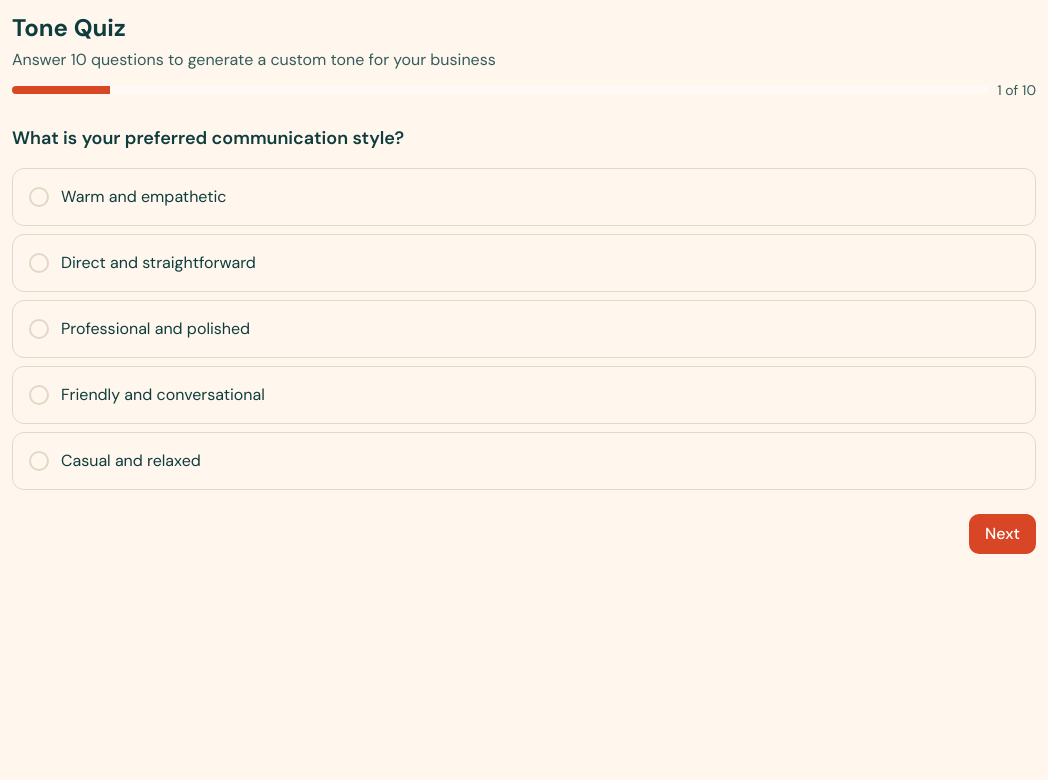
components/voice-profile/ToneQuiz › Question navigation › allows going back to previous question
The image size is (1048, 780).
Click the radio button "Warm and empathetic" at (144, 196), box [12, 168, 1036, 226]
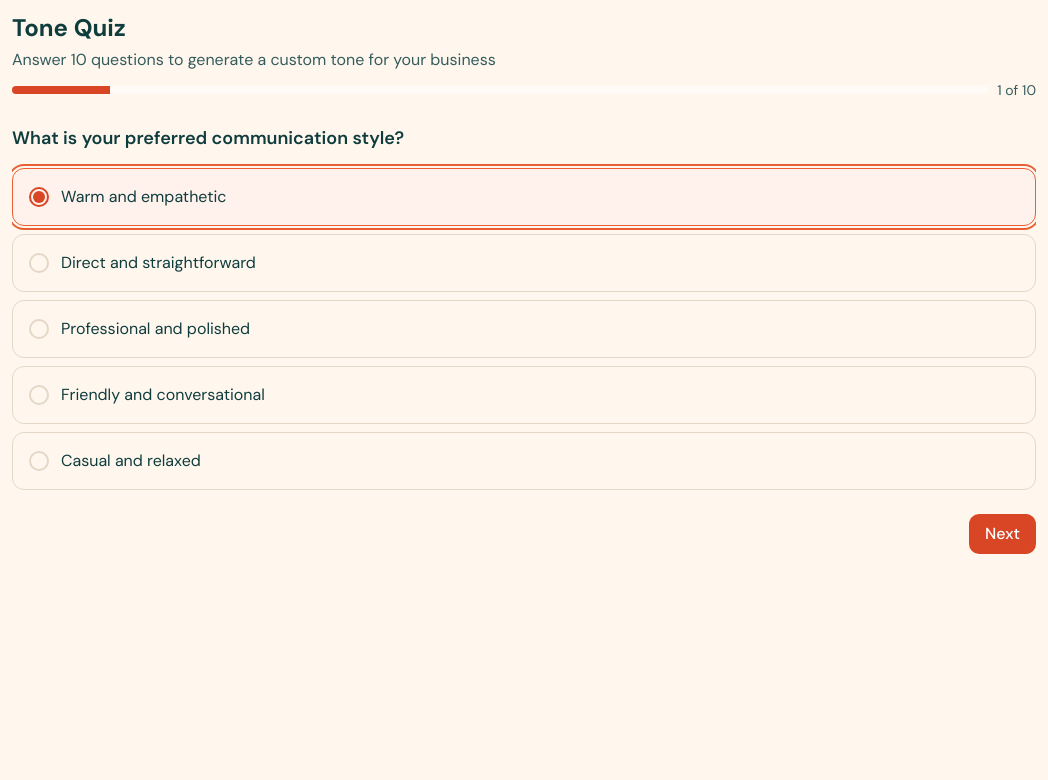
Click the button "Next" at (1003, 534), box [969, 514, 1036, 554]
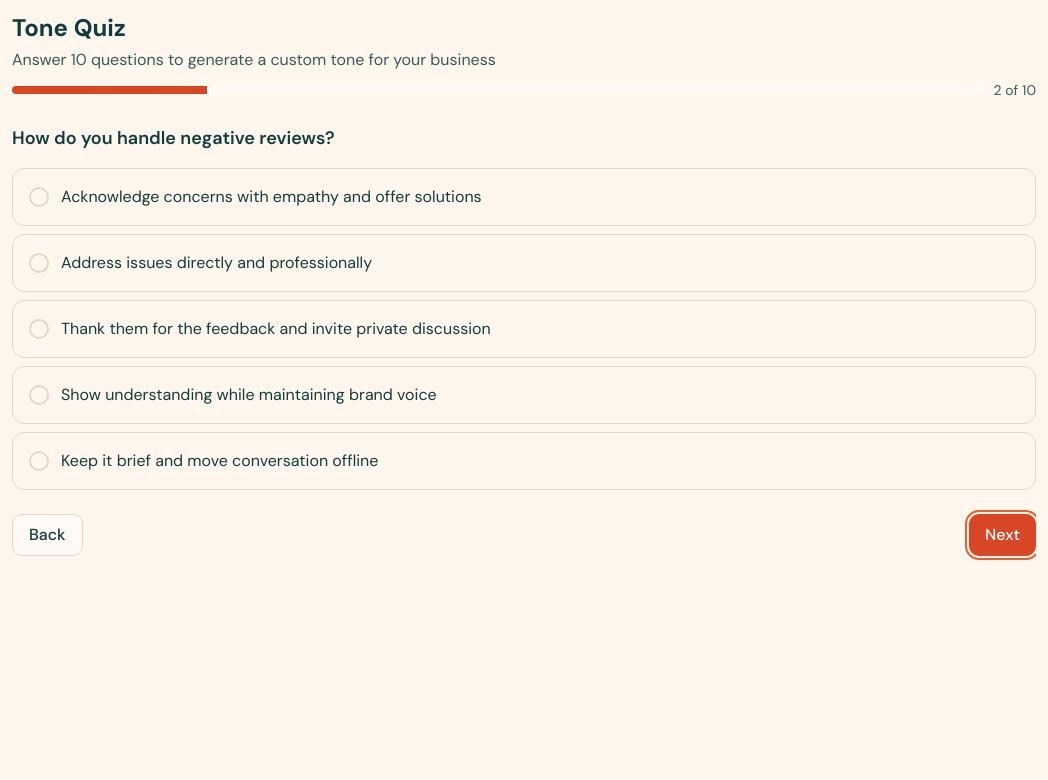
Expected: the heading "How do you handle negative reviews?" is shown, [12, 126, 335, 150]
//  Go back
Click the button "Back" at (47, 535), box [12, 514, 82, 556]
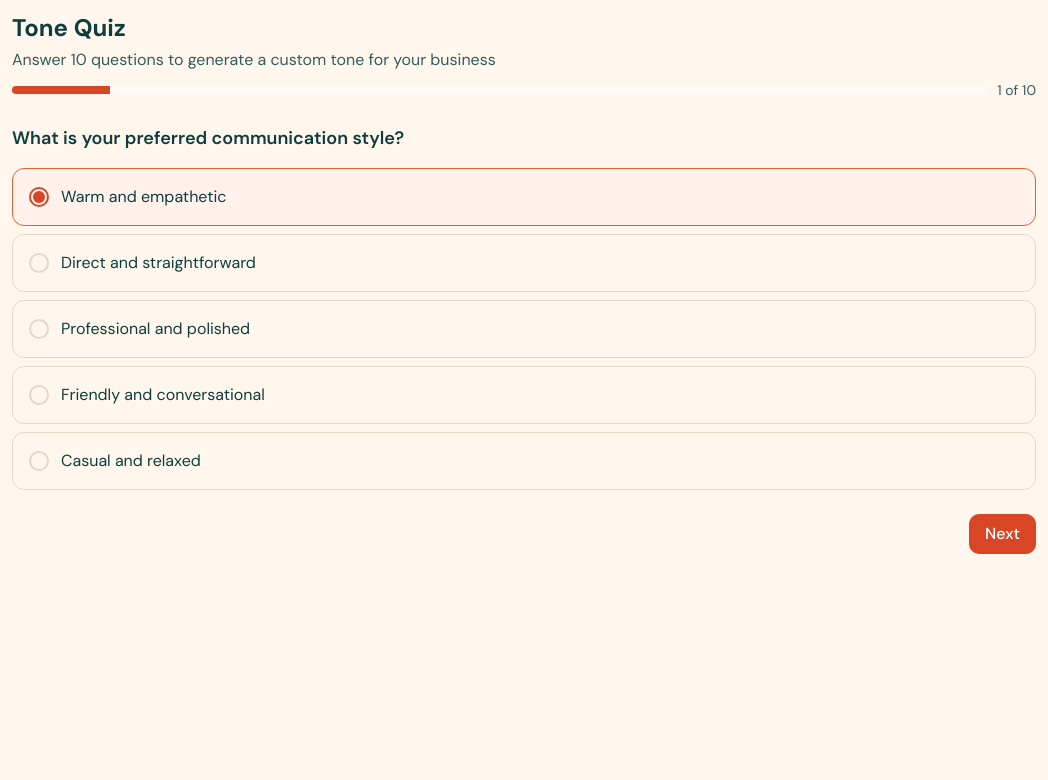
Expected: the heading "What is your preferred communication style?" is shown, [12, 126, 404, 150]
